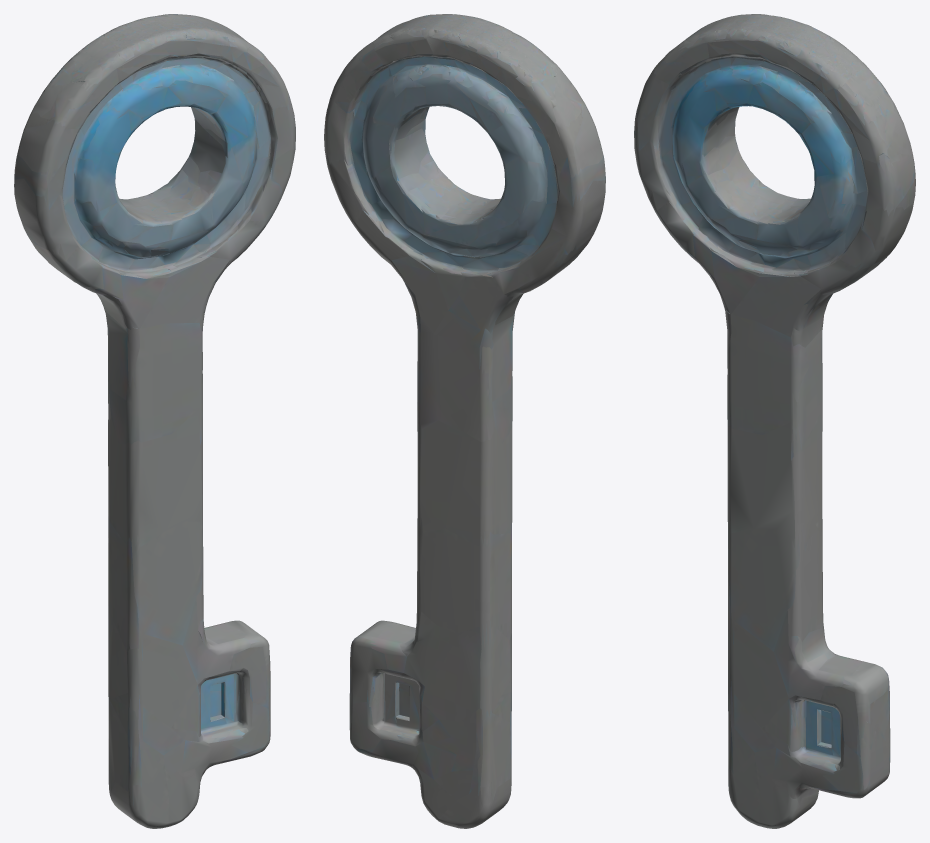
File: key-t3-v1.glb
3 views of the same model, side by side, from view 1: azimuth 30°, elevation 25°; view 2: azimuth 150°, elevation 25°; view 3: azimuth 330°, elevation 25° (orthographic).
Visible parts, largest first — view 1: mesh_node; view 2: mesh_node; view 3: mesh_node.
Boxes of the visible parts, bbox=[...] form: mesh_node: bbox=[14, 14, 295, 828]; mesh_node: bbox=[324, 14, 605, 828]; mesh_node: bbox=[634, 14, 915, 828].
Bounding box in the file's own units: 0.6527 × 1.9 × 0.1498.
Materials: 1 (1 with a texture image).
